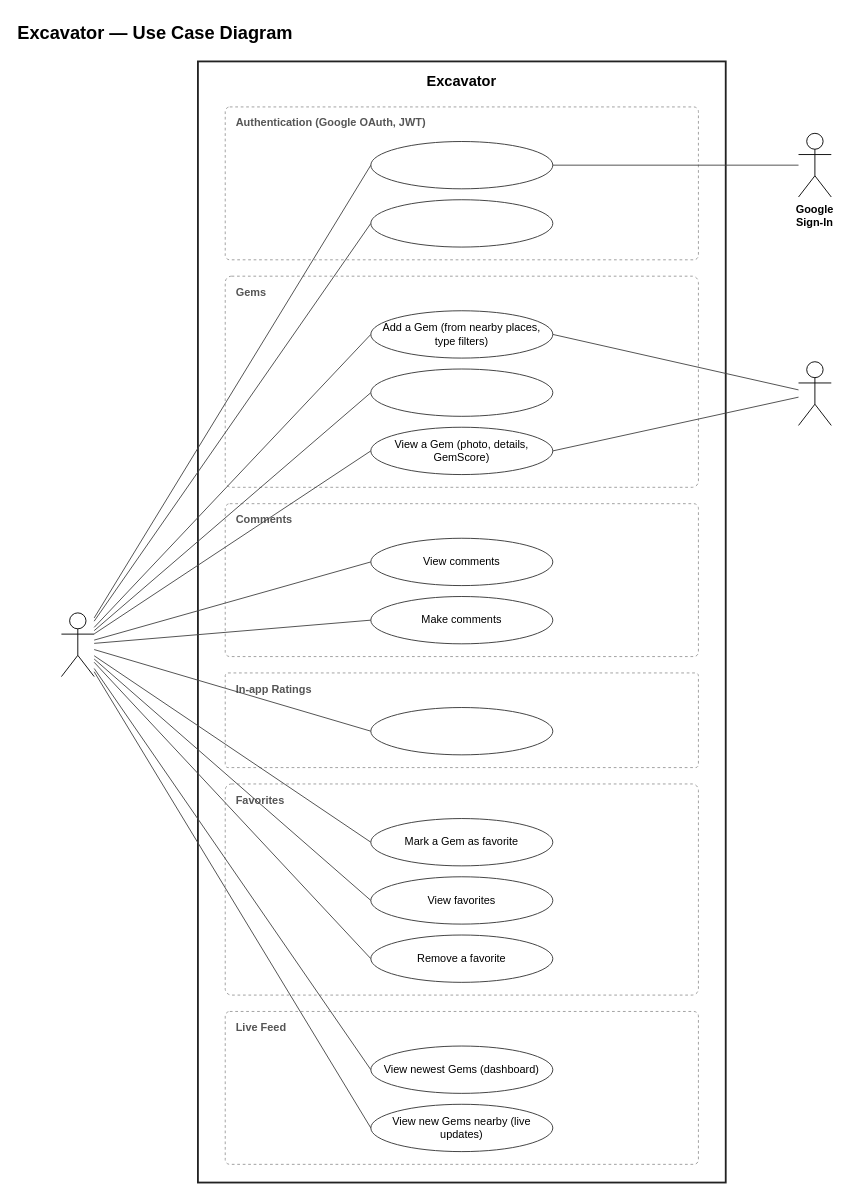
Image size: 849x1198. Some labels were removed from this diagram. Here are the shapes that lost their labels. From the top down, the centre of each, then its label:
At pixel 461 165: "Sign in (Google)".
At pixel 461 223: "Sign out".
At pixel 461 392: "Browse Gems on the map".
At pixel 814 393: "Google Places API".
At pixel 77 644: "User".
At pixel 461 731: "Contribute to GemScore (rate 1–5)".
